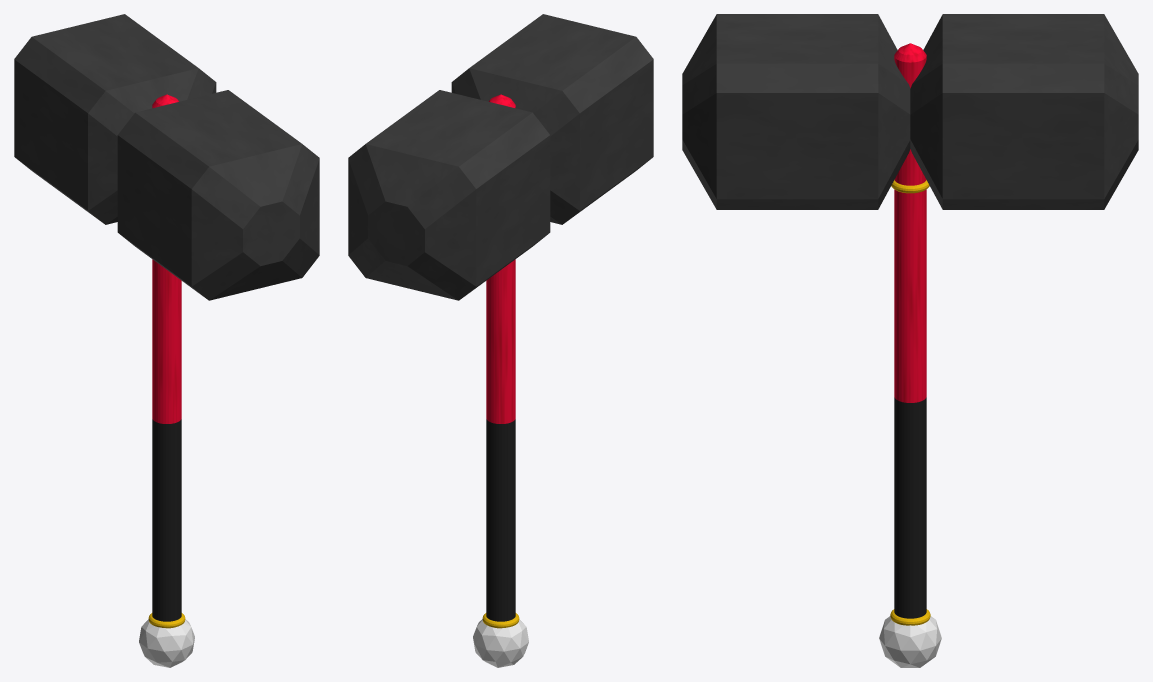
File: Hammer.fbx
The picture shows the model from 3 angles, left to right: view 1: azimuth 30°, elevation 25°; view 2: azimuth 150°, elevation 25°; view 3: azimuth 270°, elevation 25°; orthographic projection. The views are drawn at different scales.
Visible parts, largest first — view 1: Hammer, Handle.001, Handle, Pommel; view 2: Hammer, Handle.001, Handle, Pommel; view 3: Hammer, Handle, Handle.001, Pommel.
Part boxes in pixels (left/top/right/bottom): Hammer: left=14, top=14, right=319, bottom=300; Handle.001: left=152, top=419, right=181, bottom=621; Handle: left=152, top=94, right=181, bottom=423; Pommel: left=139, top=619, right=194, bottom=667; Hammer: left=348, top=14, right=653, bottom=300; Handle.001: left=486, top=419, right=515, bottom=621; Handle: left=486, top=94, right=515, bottom=423; Pommel: left=473, top=619, right=528, bottom=667; Hammer: left=682, top=14, right=1138, bottom=209; Handle: left=894, top=43, right=926, bottom=402; Handle.001: left=894, top=397, right=926, bottom=618; Pommel: left=879, top=616, right=941, bottom=667.
Size of the model in its own units: 100 by 426 by 283.
